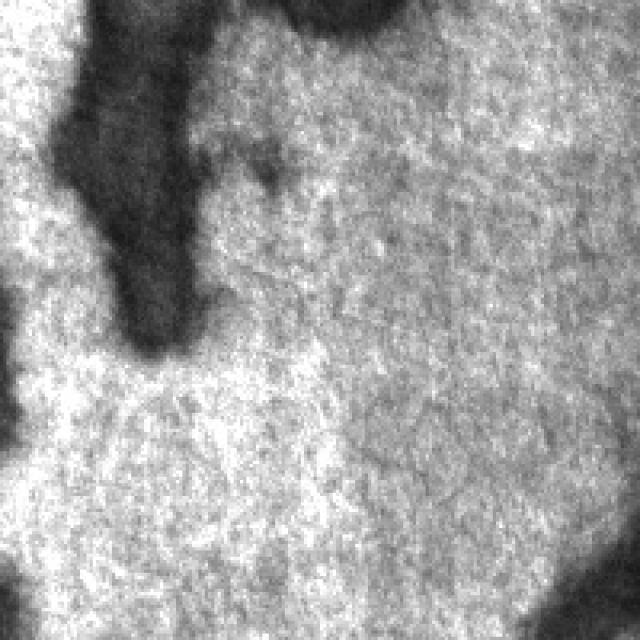patches: (55, 0, 234, 352), (538, 509, 640, 637)
